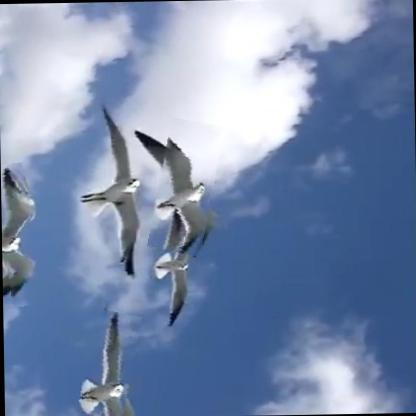bird: (80, 101, 139, 276), (150, 118, 219, 255), (78, 310, 137, 416), (0, 163, 38, 308)
